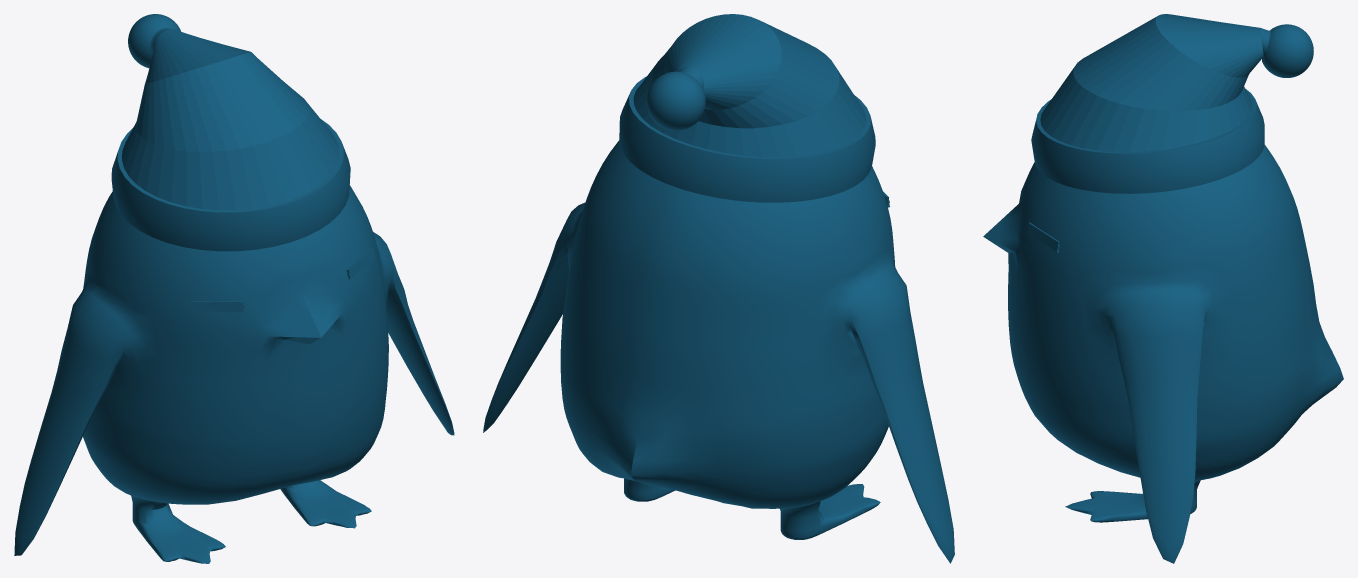
File: penguin_blue_idle_09f.fbx
The picture shows the model from 3 angles, left to right: view 1: azimuth 30°, elevation 25°; view 2: azimuth 150°, elevation 25°; view 3: azimuth 270°, elevation 25°; orthographic projection. The views are drawn at different scales.
Parts seen in each view (by area): view 1: ppp_9, bousi, ai; view 2: ppp_9, bousi; view 3: ppp_9, bousi.
Boxes of the visible parts, left/top/right/bottom form: ppp_9: left=14, top=185, right=454, bottom=563; bousi: left=111, top=14, right=350, bottom=251; ai: left=190, top=249, right=374, bottom=312; ppp_9: left=483, top=140, right=954, bottom=563; bousi: left=619, top=14, right=875, bottom=202; ppp_9: left=983, top=144, right=1343, bottom=563; bousi: left=1031, top=14, right=1313, bottom=193.
Size of the model in its own units: 20.02 by 20.11 by 14.7.
Materials: 1 (1 with a texture image).
